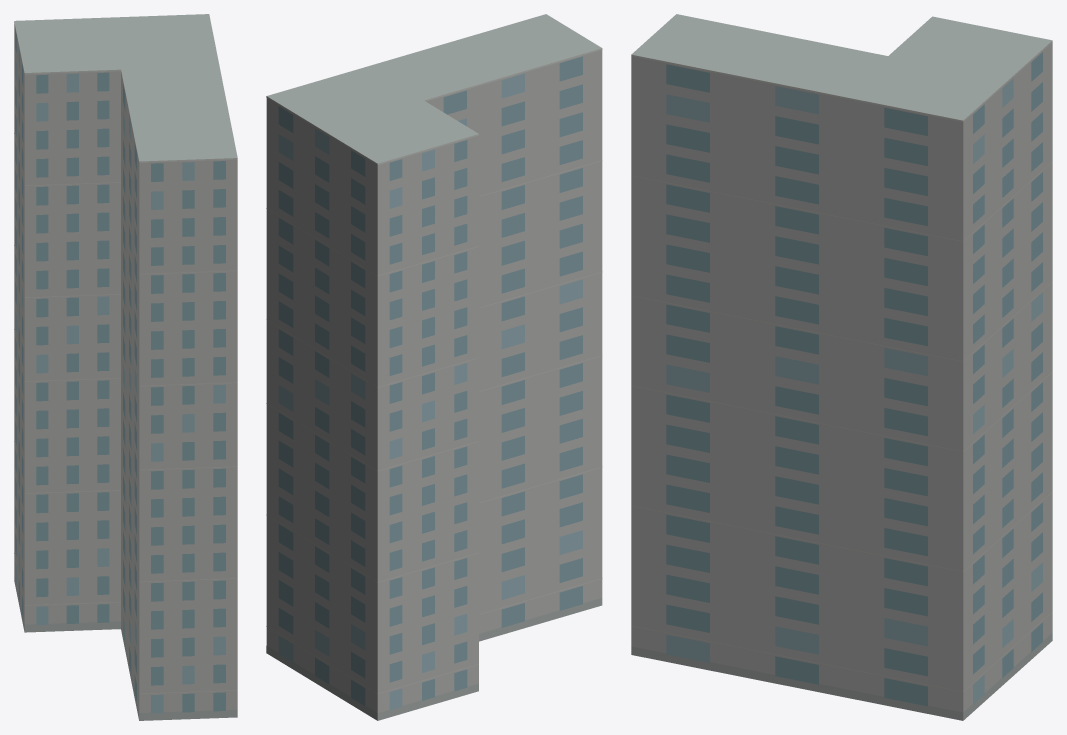
The model's file is residential-9b943f1c-a347-4de3-82ca-368077242cb9.glb.
3 renders of one model, left to right at view 1: azimuth 30°, elevation 25°; view 2: azimuth 150°, elevation 25°; view 3: azimuth 270°, elevation 25°, orthographic. The views are drawn at different scales.
Visible parts, largest first — view 1: residential-9b943f1c-a347-4de3-82ca-368077242cb9.tmp; view 2: residential-9b943f1c-a347-4de3-82ca-368077242cb9.tmp; view 3: residential-9b943f1c-a347-4de3-82ca-368077242cb9.tmp.
Part boxes in pixels (x1,y1,x2,y2): residential-9b943f1c-a347-4de3-82ca-368077242cb9.tmp: [14, 14, 237, 720]; residential-9b943f1c-a347-4de3-82ca-368077242cb9.tmp: [266, 14, 602, 720]; residential-9b943f1c-a347-4de3-82ca-368077242cb9.tmp: [631, 14, 1052, 720].
Bounding box in the file's own units: 32.41 × 85 × 54.1.
